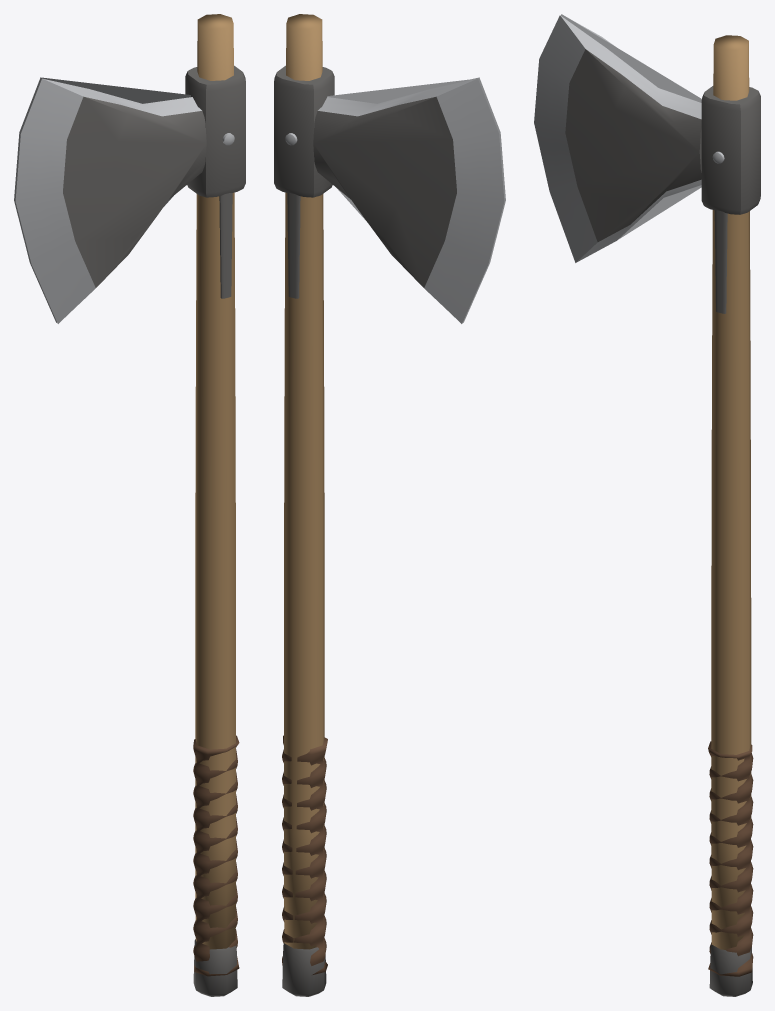
The model's file is battleaxe.glb.
The picture shows the model from 3 angles, left to right: view 1: azimuth 30°, elevation 25°; view 2: azimuth 150°, elevation 25°; view 3: azimuth 330°, elevation 25°; orthographic projection. The views are drawn at different scales.
Parts seen in each view (by area): view 1: battleaxe; view 2: battleaxe; view 3: battleaxe.
Boxes of the visible parts, x1,y1,x2,y2 form: battleaxe: (14, 14, 245, 996); battleaxe: (274, 14, 505, 996); battleaxe: (534, 14, 760, 996).
Size of the model in its own units: 0.5001 by 2.06 by 0.1161.
